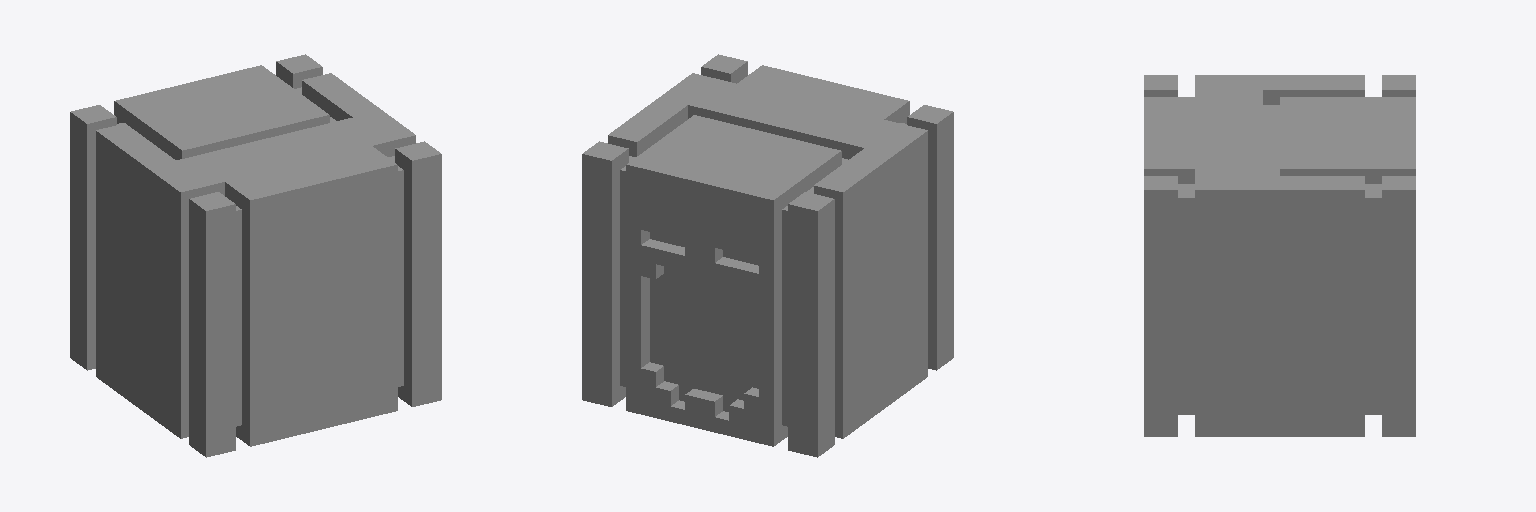
Rendered from blockenderman.obj.
3 renders of one model, left to right at view 1: azimuth 30°, elevation 25°; view 2: azimuth 150°, elevation 25°; view 3: azimuth 270°, elevation 25°, orthographic.
Visible parts, largest first — view 1: Cube; view 2: Cube; view 3: Cube.
Boxes of the visible parts, x1,y1,x2,y2 form: Cube: [70, 54, 441, 457]; Cube: [582, 54, 953, 457]; Cube: [1144, 75, 1415, 436].
Bounding box in the file's own units: 1 × 1 × 1.